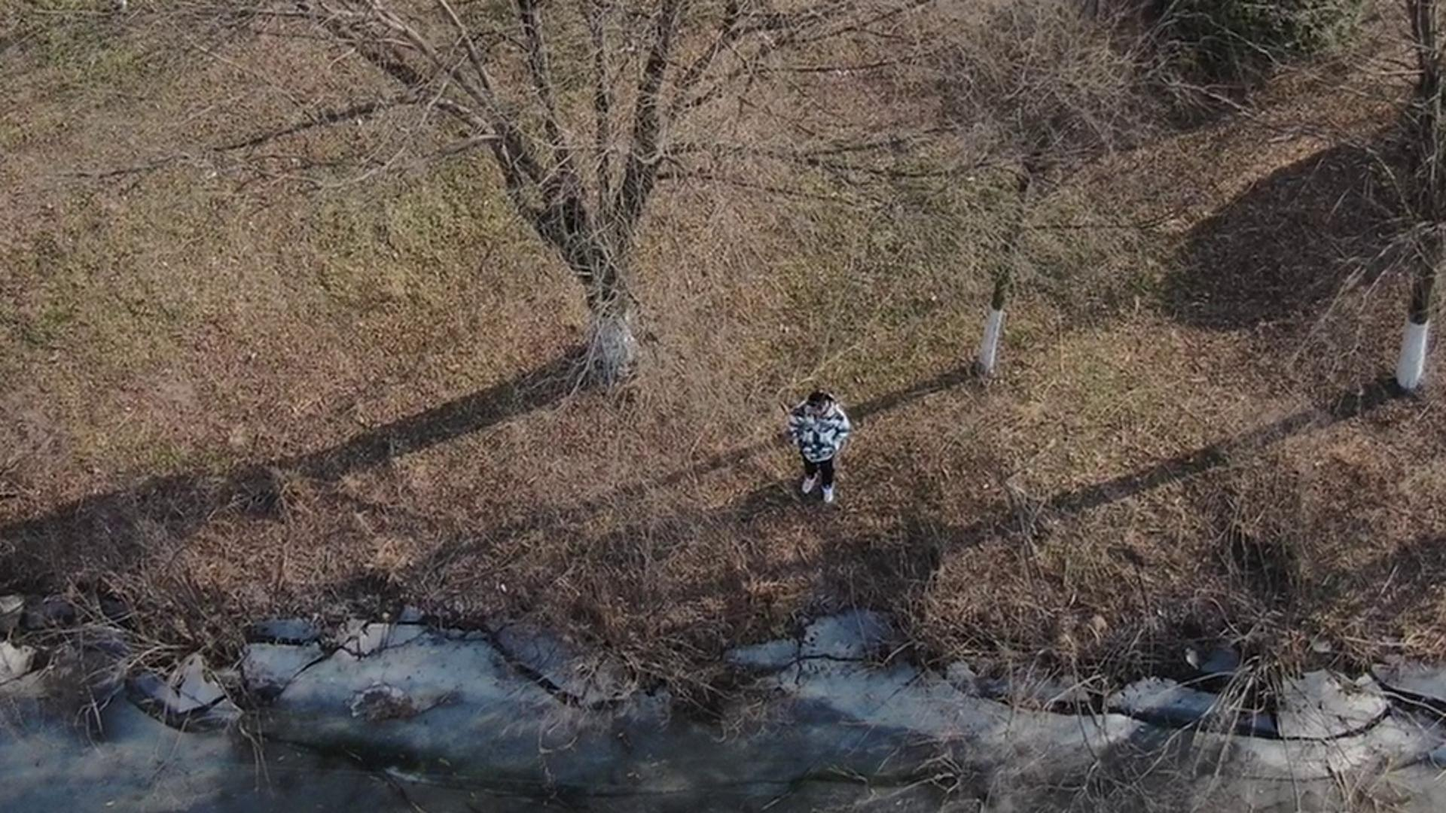human: (795, 403, 844, 514)
